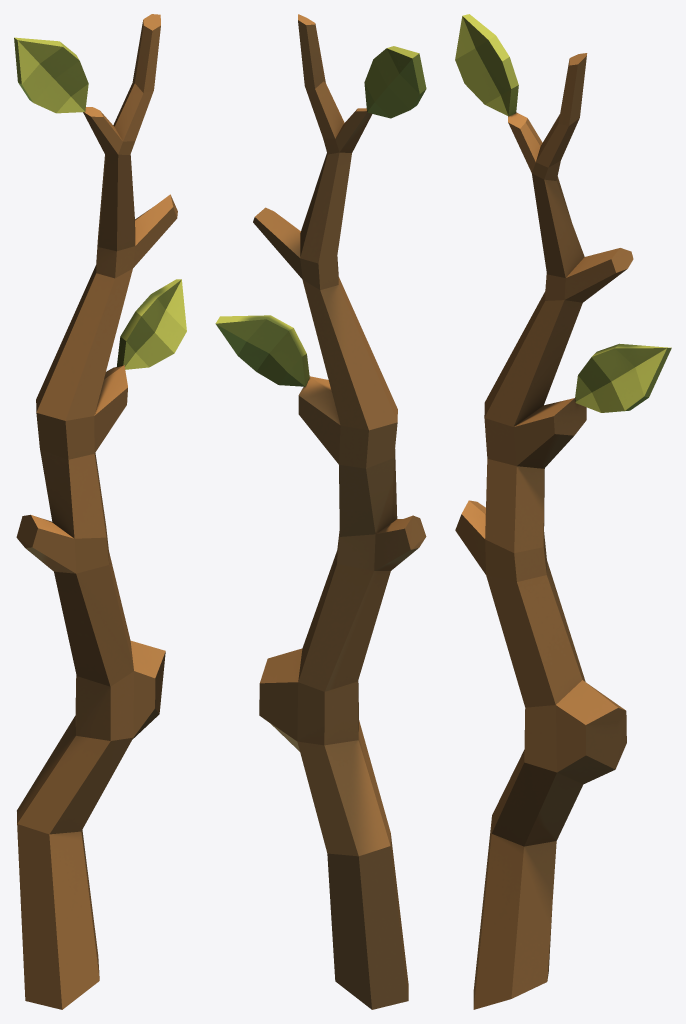
The model's file is PUSHILIN_Tree_branch.gltf.
The picture shows the model from 3 angles, left to right: view 1: azimuth 30°, elevation 25°; view 2: azimuth 150°, elevation 25°; view 3: azimuth 330°, elevation 25°; orthographic projection. The views are drawn at different scales.
Parts seen in each view (by area): view 1: node-0; view 2: node-0; view 3: node-0.
Part boxes in pixels (x1,y1,x2,y2): node-0: (14, 14, 186, 1009); node-0: (215, 14, 426, 1009); node-0: (455, 14, 671, 1009).
Size of the model in its own units: 0.5237 by 2.61 by 0.2453.
1 material, 1 textured.
